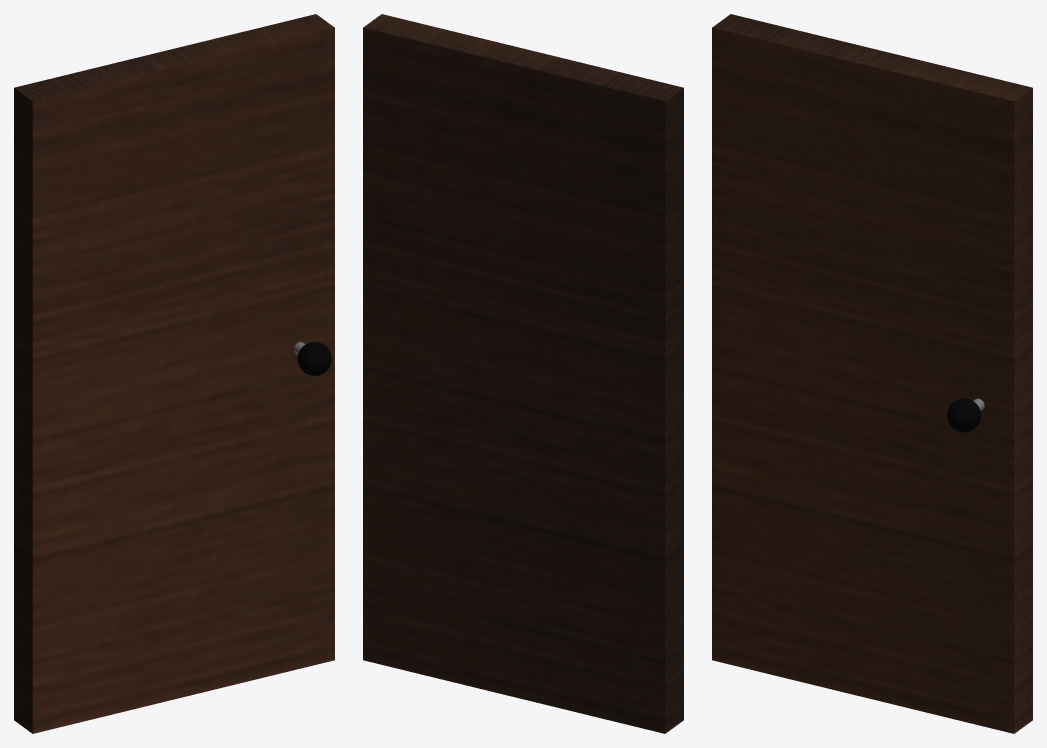
Rendered from Door.fbx.
3 renders of one model, left to right at view 1: azimuth 30°, elevation 25°; view 2: azimuth 150°, elevation 25°; view 3: azimuth 330°, elevation 25°, orthographic.
Visible parts, largest first — view 1: Cylinder; view 2: Cylinder; view 3: Cylinder.
Boxes of the visible parts, <box> form: Cylinder: <box>14,14,334,733</box>; Cylinder: <box>363,14,683,733</box>; Cylinder: <box>712,14,1032,733</box>.
Bounding box in the file's own units: 243 × 485 × 58.69.
